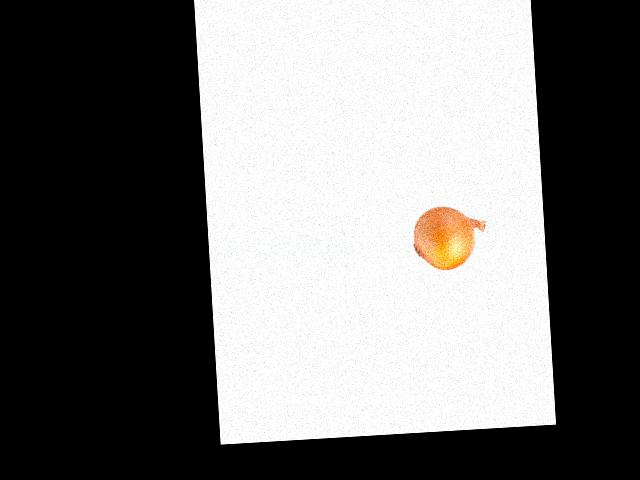onion: (412, 203, 479, 272)
